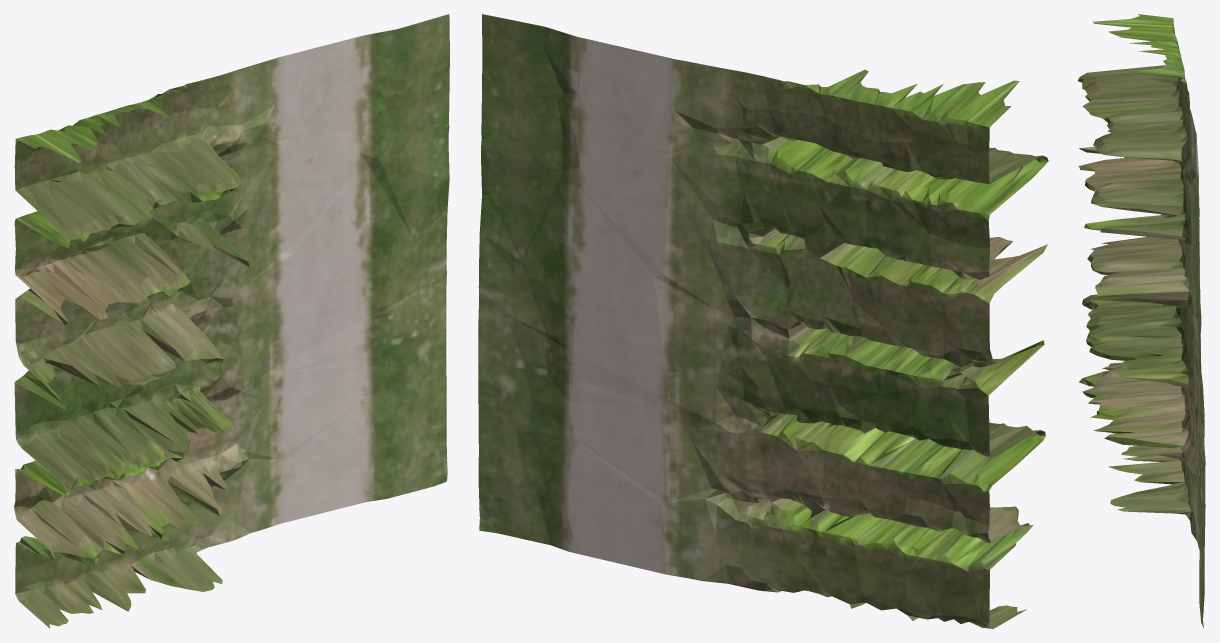
File: map_250_80.obj
The picture shows the model from 3 angles, left to right: view 1: azimuth 30°, elevation 25°; view 2: azimuth 150°, elevation 25°; view 3: azimuth 270°, elevation 25°; orthographic projection. The views are drawn at different scales.
Visible parts, largest first — view 1: grp1; view 2: grp1; view 3: grp1.
Boxes of the visible parts, bbox=[...] form: grp1: bbox=[14, 14, 449, 628]; grp1: bbox=[478, 14, 1048, 628]; grp1: bbox=[1077, 14, 1205, 627].
Bounding box in the file's own units: 10 × 10 × 2.77.
Materials: 1 (1 with a texture image).
